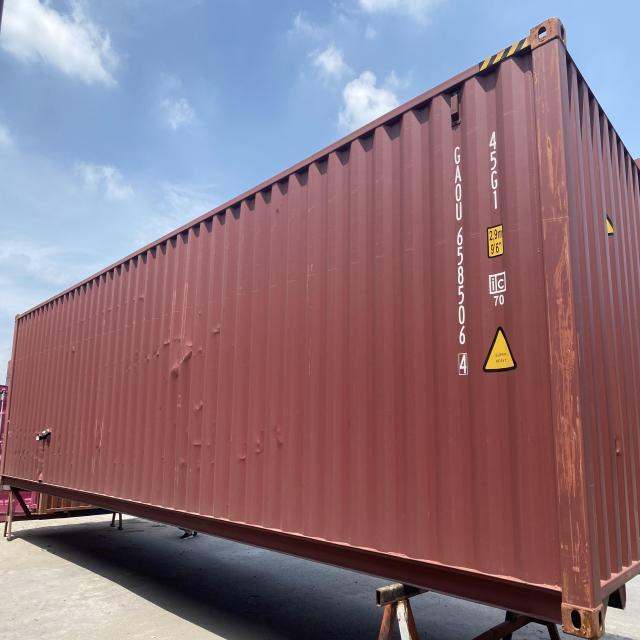hole: (40, 430, 50, 443)
